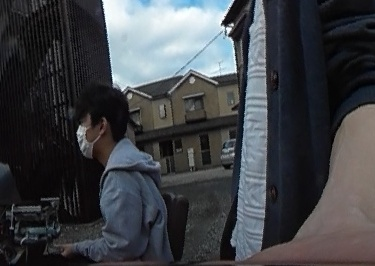person: (67, 83, 169, 266)
